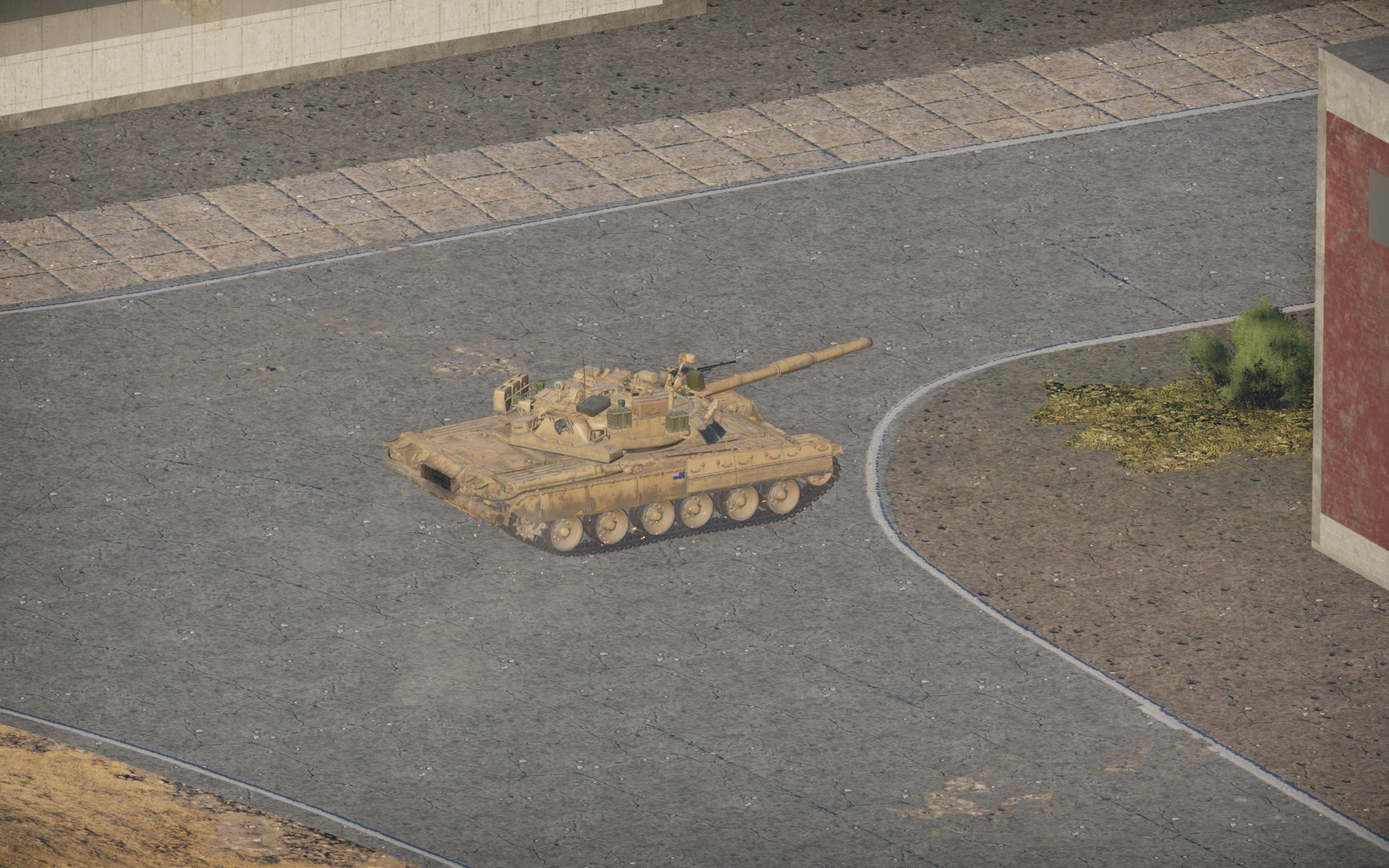t-80u: (384, 334, 873, 558)
